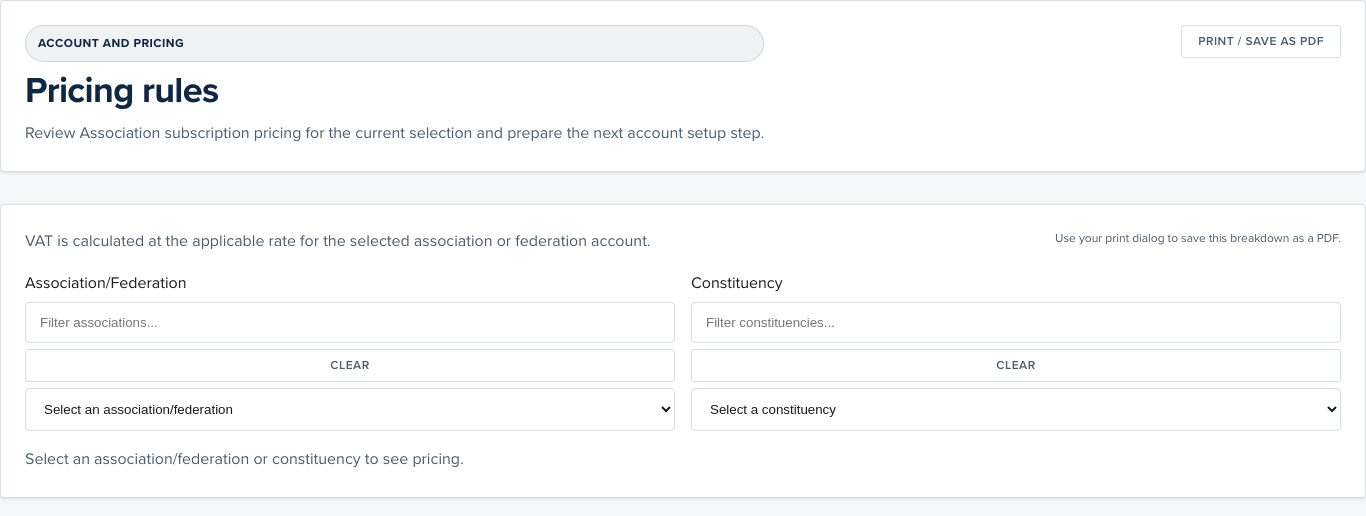
it: PricingRules › clears the association filter without changing selection
The image size is (1366, 516).
Type "big" into the field with placeholder "Filter associations..." at (350, 323), box [25,302,675,343]
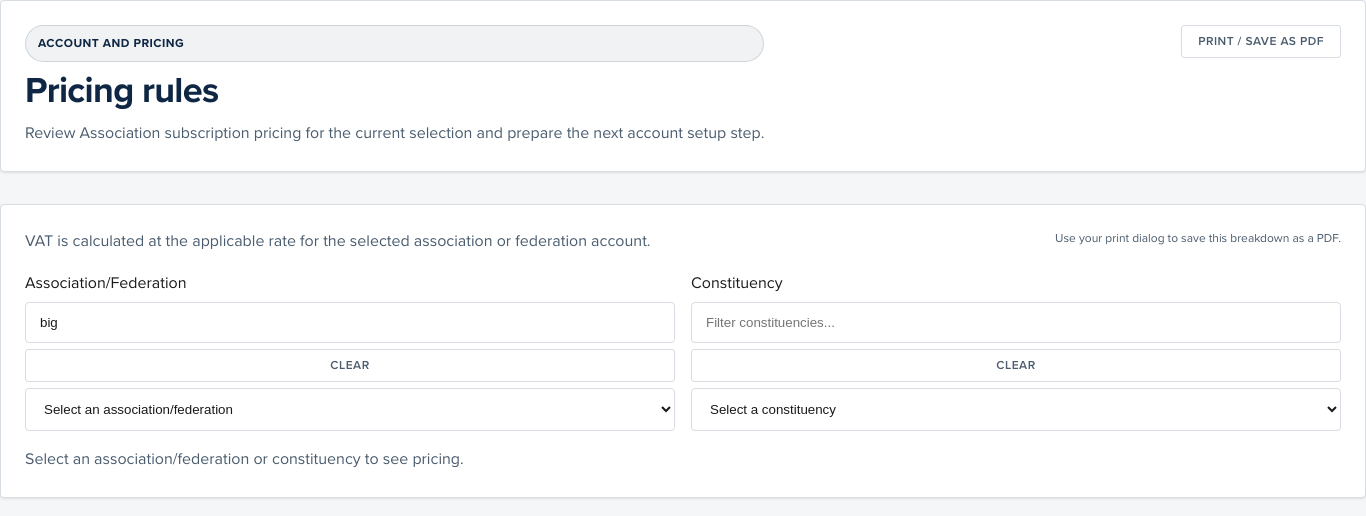
Click the button with aria-label "Clear association filter" at (350, 366), box [25,349,675,382]
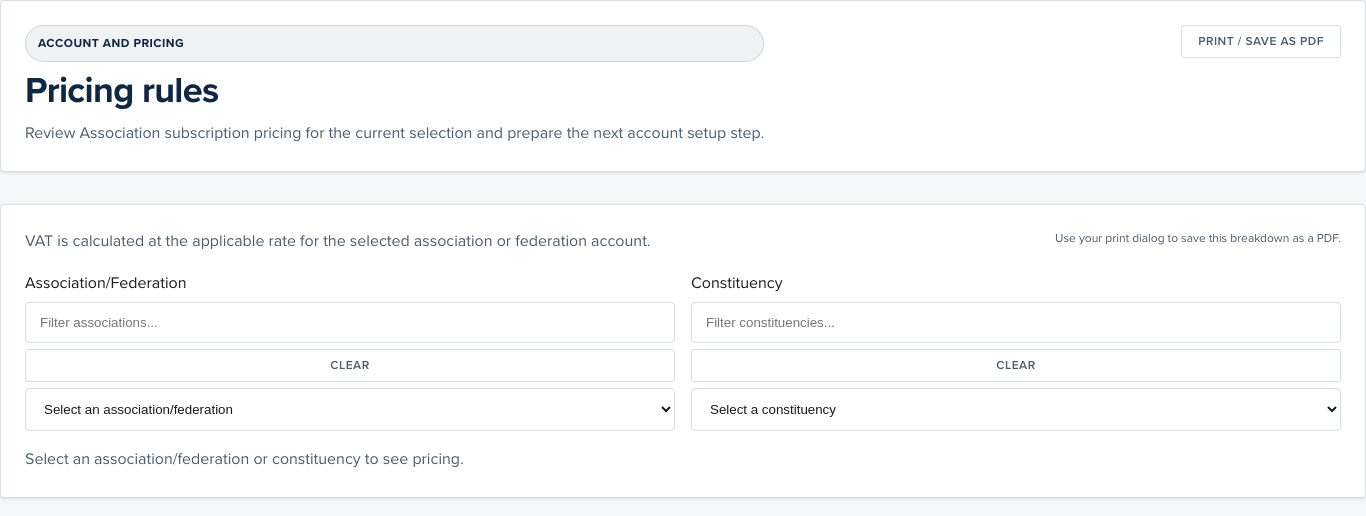
Check: the field with placeholder "Filter associations..." is empty, box [25,302,675,343]
